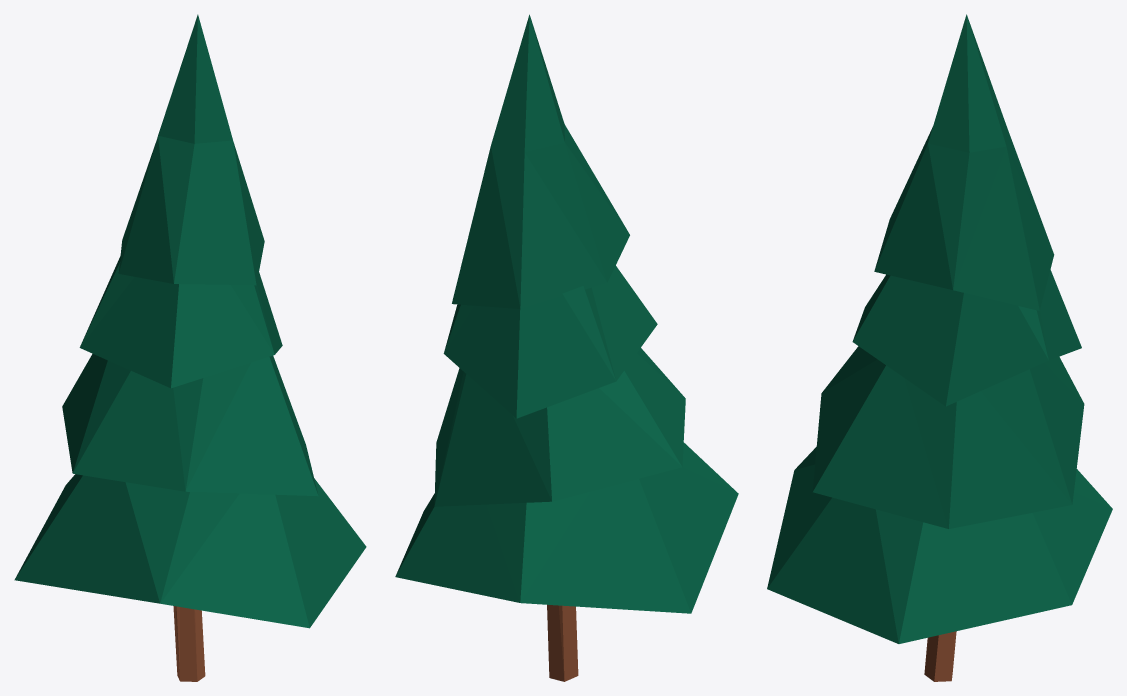
File: world_1_tree_2.dae
3 views of the same model, side by side, from view 1: azimuth 30°, elevation 25°; view 2: azimuth 150°, elevation 25°; view 3: azimuth 270°, elevation 25° (orthographic). The views are drawn at different scales.
Visible parts, largest first — view 1: world_1_tree_2_leaves, world_1_tree_2_base; view 2: world_1_tree_2_leaves, world_1_tree_2_base; view 3: world_1_tree_2_leaves, world_1_tree_2_base.
Part boxes in pixels (x1=…): world_1_tree_2_leaves: x1=14, y1=14, x2=366, y2=628; world_1_tree_2_base: x1=173, y1=606, x2=205, y2=681; world_1_tree_2_leaves: x1=395, y1=14, x2=738, y2=613; world_1_tree_2_base: x1=547, y1=604, x2=578, y2=681; world_1_tree_2_leaves: x1=767, y1=14, x2=1112, y2=643; world_1_tree_2_base: x1=924, y1=631, x2=956, y2=681.
Size of the model in its own units: 2.63 by 2.48 by 5.33.
